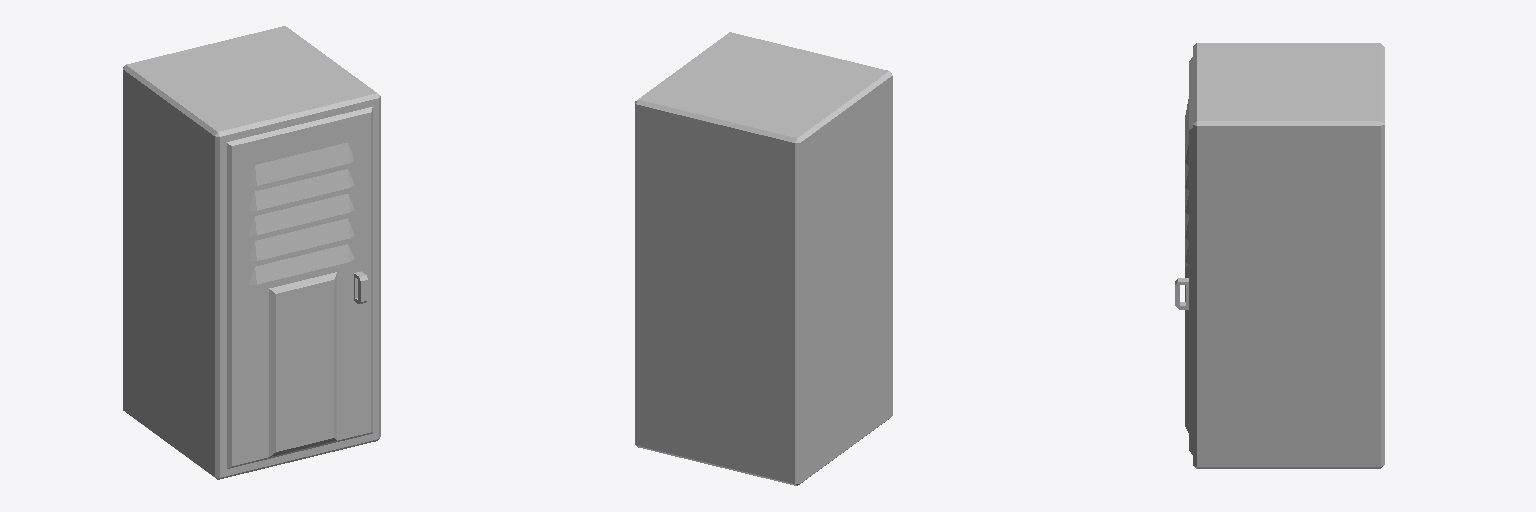
The model's file is Locker.obj.
3 views of the same model, side by side, from view 1: azimuth 30°, elevation 25°; view 2: azimuth 150°, elevation 25°; view 3: azimuth 270°, elevation 25° (orthographic).
Parts seen in each view (by area): view 1: Locker.obj; view 2: Locker.obj; view 3: Locker.obj.
Part boxes in pixels (bbox=[...]): Locker.obj: bbox=[123, 26, 380, 479]; Locker.obj: bbox=[635, 32, 892, 485]; Locker.obj: bbox=[1175, 43, 1384, 468].
Bounding box in the file's own units: 1 × 2 × 1.09.